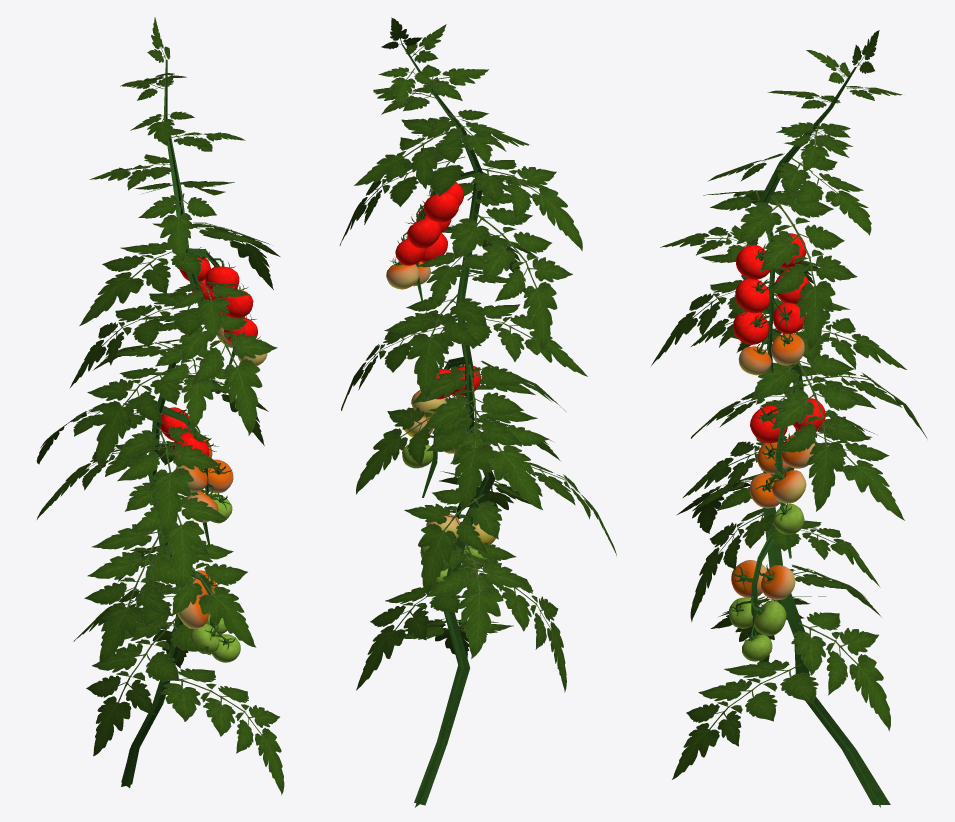
The model's file is tomato_5.fbx.
3 renders of one model, left to right at view 1: azimuth 30°, elevation 25°; view 2: azimuth 150°, elevation 25°; view 3: azimuth 270°, elevation 25°, orthographic. The views are drawn at different scales.
Parts seen in each view (by area): view 1: tomato_5; view 2: tomato_5; view 3: tomato_5.
Boxes of the visible parts, box(x1,y1,x2,y2) form: tomato_5: box(36, 17, 284, 795); tomato_5: box(339, 17, 616, 807); tomato_5: box(651, 30, 927, 807).
Size of the model in its own units: 0.6352 by 1.91 by 0.6399.
